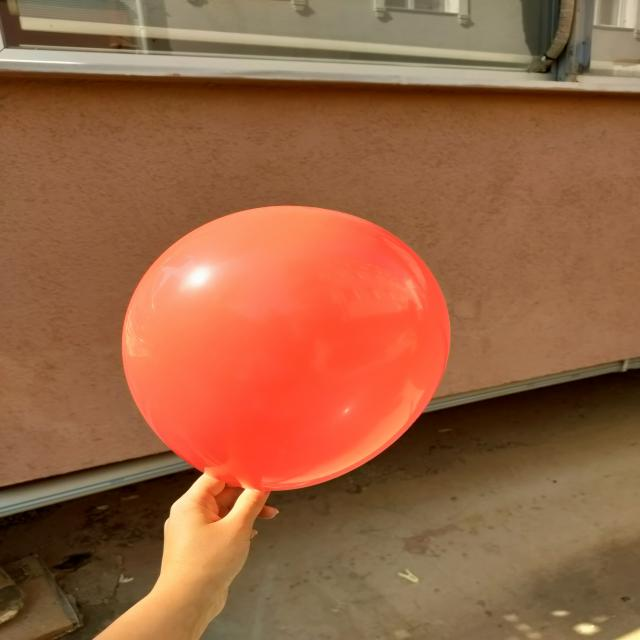red: (124, 208, 452, 494)
